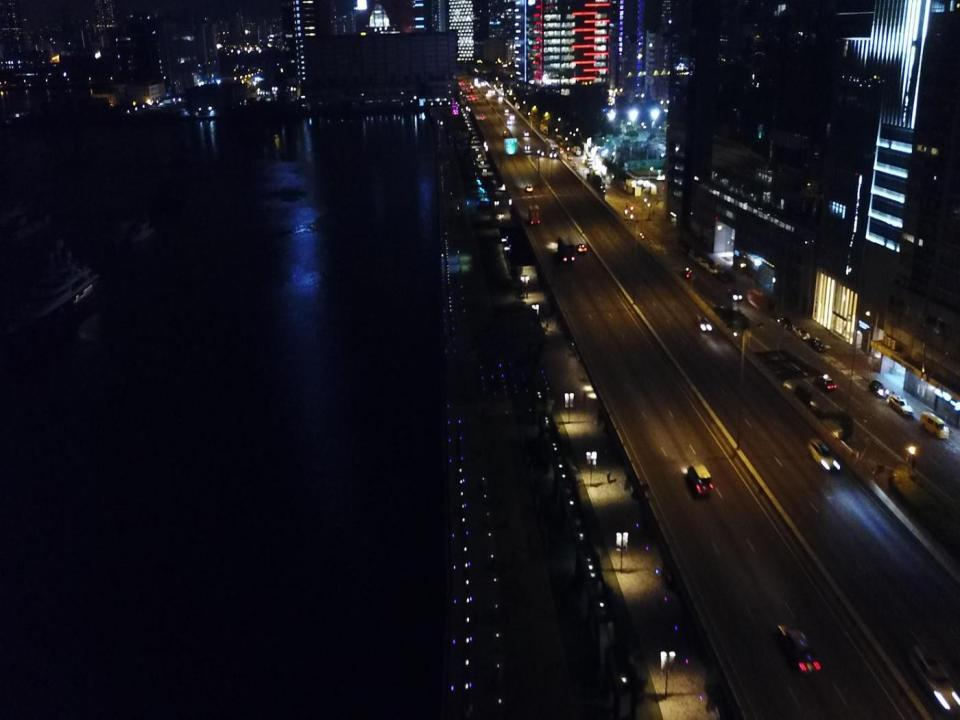car: (908, 648, 960, 717), (778, 622, 820, 672), (810, 437, 840, 470), (889, 393, 914, 419), (812, 371, 836, 391), (692, 314, 712, 334), (869, 381, 891, 399), (792, 325, 810, 341), (810, 337, 826, 353), (778, 316, 793, 331), (727, 287, 742, 301), (679, 240, 691, 252), (689, 250, 700, 262), (577, 243, 588, 254), (706, 264, 717, 274), (698, 256, 708, 267), (526, 184, 534, 192), (524, 132, 529, 138), (525, 144, 530, 150)
truck: (742, 285, 766, 311), (557, 235, 575, 264), (529, 202, 540, 225), (546, 139, 558, 159)
van: (686, 462, 714, 497), (920, 413, 948, 440)
